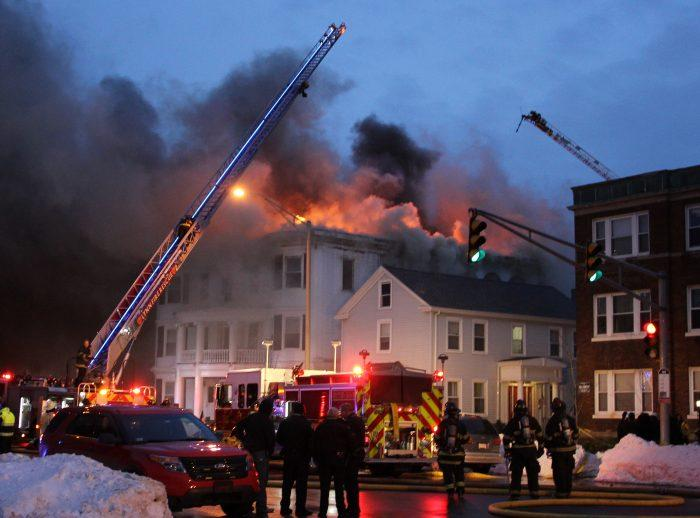smoke: (3, 0, 147, 257), (146, 56, 273, 243), (273, 111, 523, 203), (379, 204, 464, 273), (273, 204, 379, 249)
